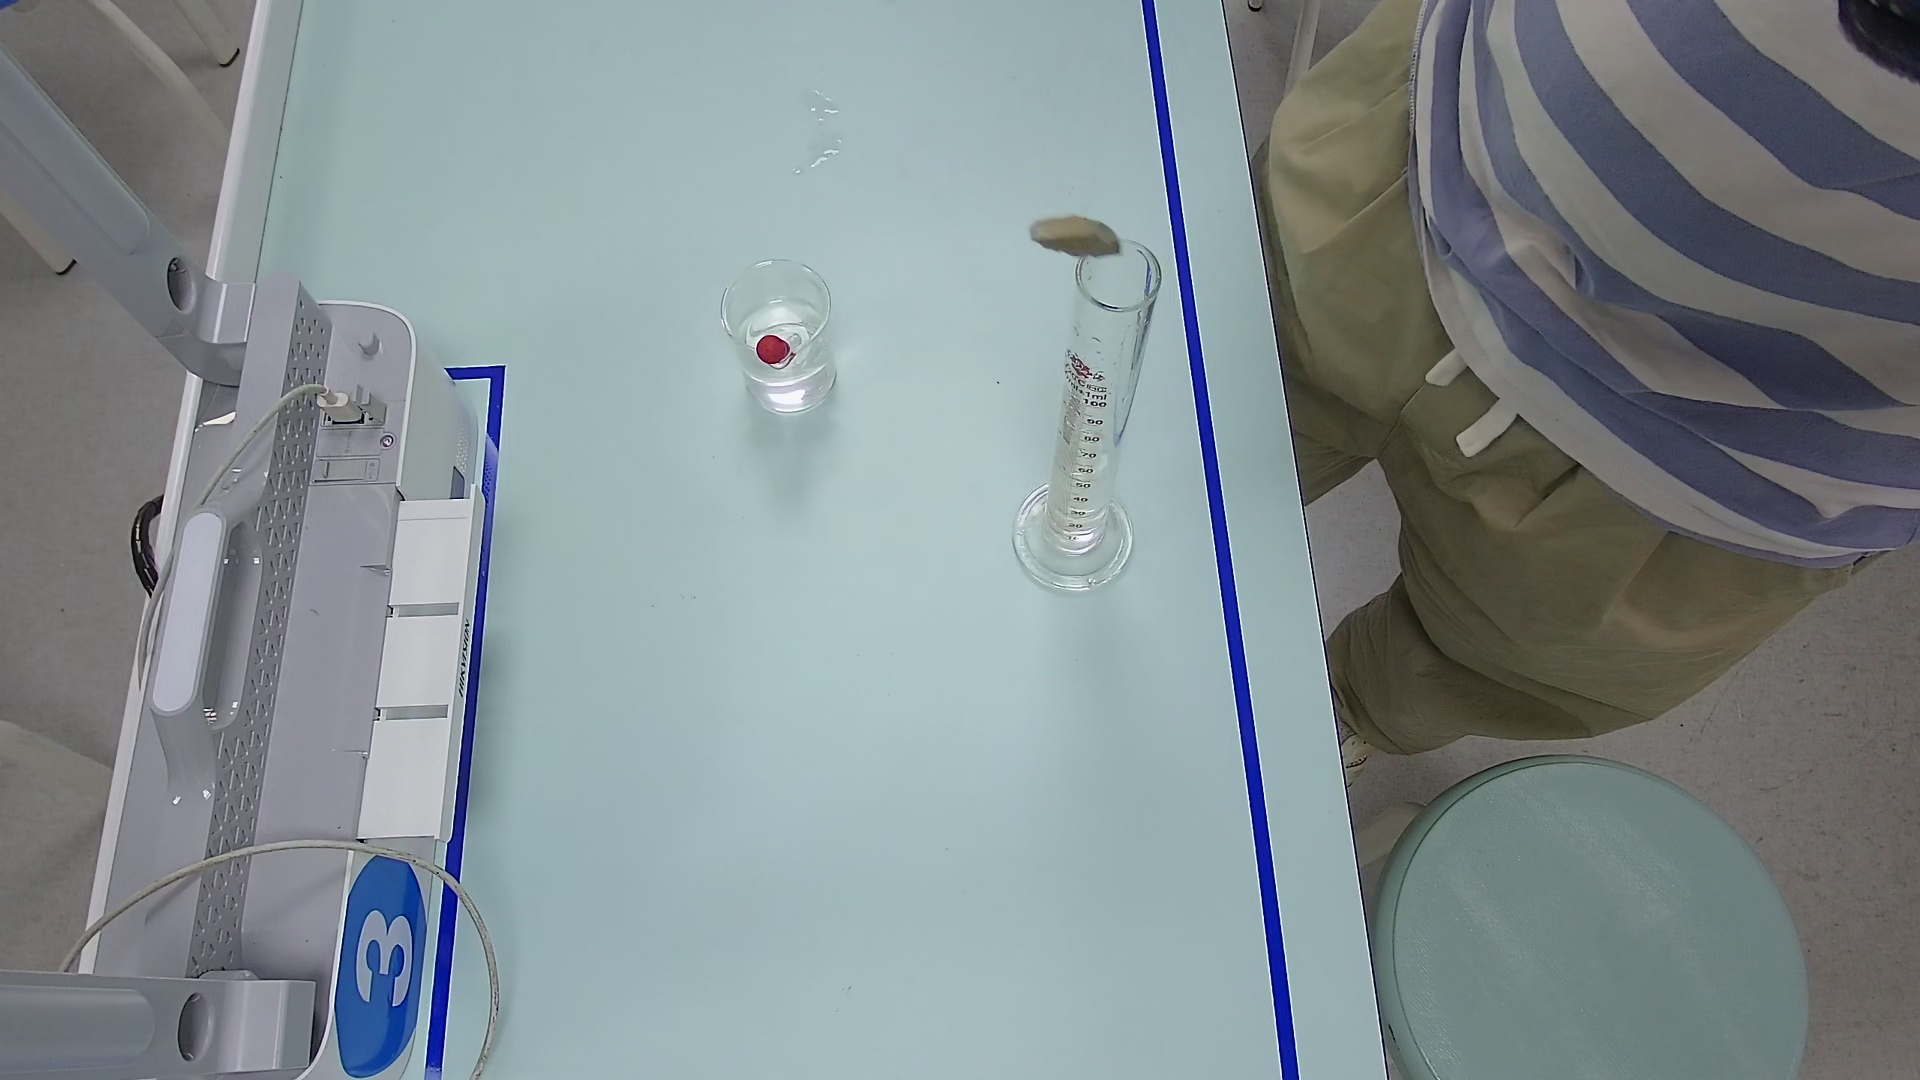ao: (1055, 426, 1125, 469)
bei: (721, 252, 851, 433)
diguantou: (757, 334, 793, 375)
liangdi: (1010, 477, 1134, 596)
liangtong: (1017, 229, 1163, 605)
shi: (1035, 196, 1133, 257)
